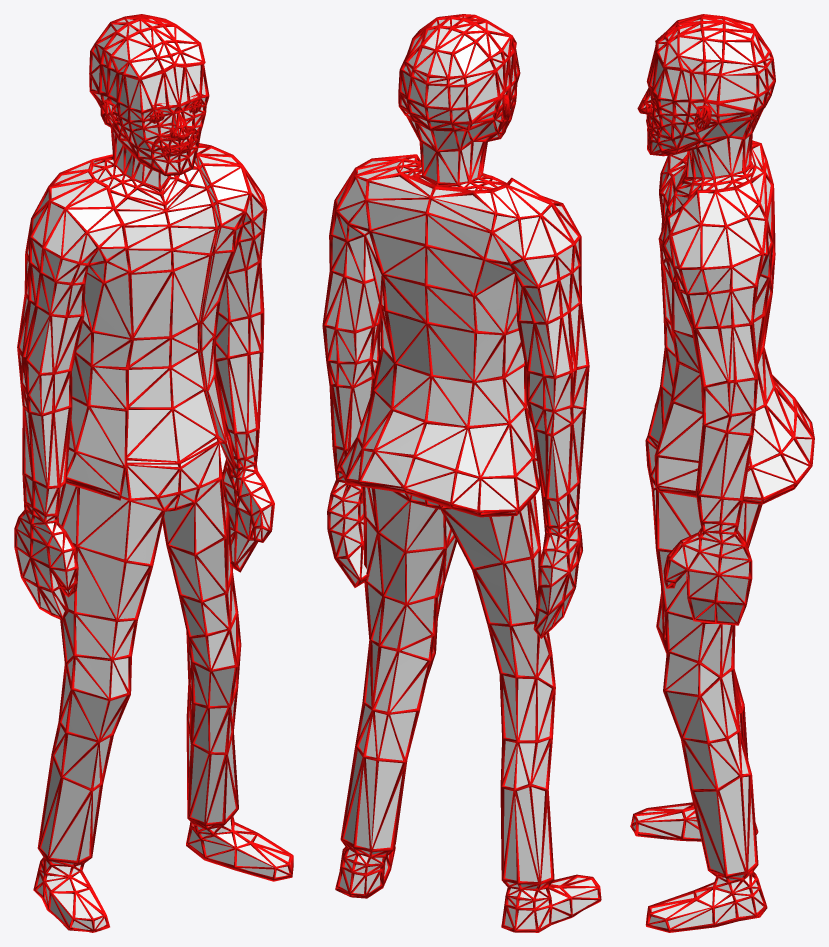
The model's file is elegantIdle_000012.obj.
3 renders of one model, left to right at view 1: azimuth 30°, elevation 25°; view 2: azimuth 150°, elevation 25°; view 3: azimuth 270°, elevation 25°, orthographic. The views are drawn at different scales.
Visible parts, largest first — view 1: BaseHuman_Cylinder.002; view 2: BaseHuman_Cylinder.002; view 3: BaseHuman_Cylinder.002.
Boxes of the visible parts, bbox=[...] form: BaseHuman_Cylinder.002: bbox=[14, 14, 293, 932]; BaseHuman_Cylinder.002: bbox=[322, 14, 601, 932]; BaseHuman_Cylinder.002: bbox=[630, 14, 814, 932].
Size of the model in its own units: 1.44 by 4.84 by 0.9507.
